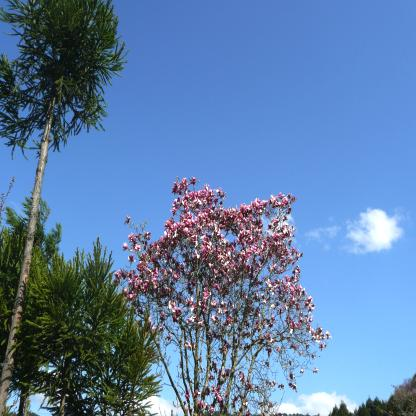Mokuren: (113, 175, 330, 416)
